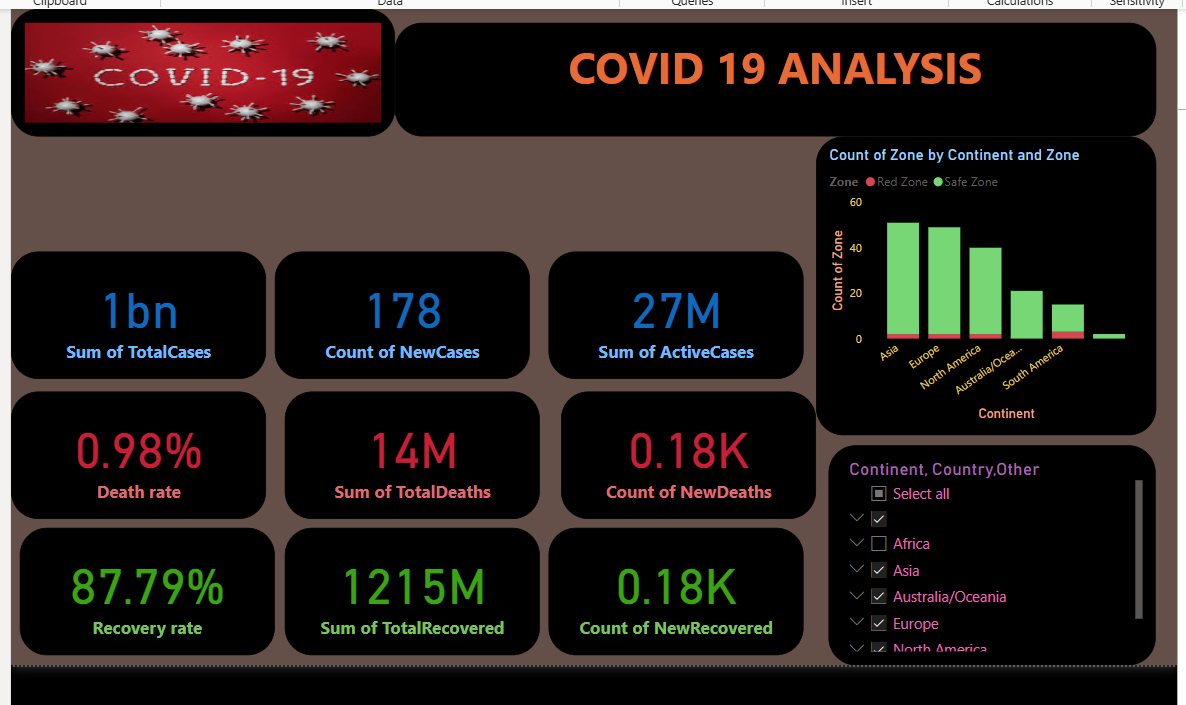

What the dashboard file says about the page in this screenshot:
{"tool":"powerbi","page":{"name":"Page 1","canvas":[1280,720],"ordinal":0},"visuals":[{"type":"card","fields":{"Values":["Table 1.Death rate"]},"box":[0,419.9,279.9,140],"z":0},{"type":"card","fields":{"Values":["Table 1.Recovery rate"]},"box":[9.6,569.5,279.9,140],"z":1000},{"type":"card","fields":{"Values":["Sum(Table 1.TotalDeaths)"]},"box":[300.5,419.9,279.9,140],"z":2000},{"type":"card","fields":{"Values":["CountNonNull(Table 1.NewDeaths)"]},"box":[603.8,419.9,279.9,140],"z":3000},{"type":"card","fields":{"Values":["Sum(Table 1.TotalRecovered)"]},"box":[300.5,569.5,279.9,140],"z":4000},{"type":"card","fields":{"Values":["CountNonNull(Table 1.NewRecovered)"]},"box":[590.1,569.5,279.9,140],"z":5000},{"type":"textbox","box":[421.3,15.1,835.7,124.9],"z":6000},{"type":"image","box":[0,0,421.3,140],"z":7000},{"type":"card","fields":{"Values":["Sum(Table 1.TotalCases)"]},"box":[0,266.2,279.9,140],"z":8000},{"type":"card","fields":{"Values":["CountNonNull(Table 1.NewCases)"]},"box":[289.5,266.2,279.9,140],"z":9000},{"type":"card","fields":{"Values":["Sum(Table 1.ActiveCases)"]},"box":[590.1,266.2,279.9,140],"z":10000},{"type":"slicer","fields":{"Values":["Table 1.Continent","Table 1.Country,Other"]},"box":[897.4,478.9,359.5,241.5],"z":11000},{"type":"columnChart","fields":{"Category":["Table 1.Continent"],"Y":["CountNonNull(Table 1.Zone)"],"Series":["Table 1.Zone"]},"box":[883.7,140,373.2,328],"z":11001}]}

Visuals, with their boxes on the page's 1280x720 design canvas (x1, y1, x2, y2). These are canvas units, not pixel positions in the 1186x705 screenshot, which may show the page scaled, cropped or inside an application window:
card - Table 1.Death rate: x1=0 y1=420 x2=280 y2=560
card - Table 1.Recovery rate: x1=10 y1=570 x2=290 y2=710
card - Sum(Table 1.TotalDeaths): x1=300 y1=420 x2=580 y2=560
card - CountNonNull(Table 1.NewDeaths): x1=604 y1=420 x2=884 y2=560
card - Sum(Table 1.TotalRecovered): x1=300 y1=570 x2=580 y2=710
card - CountNonNull(Table 1.NewRecovered): x1=590 y1=570 x2=870 y2=710
textbox: x1=421 y1=15 x2=1257 y2=140
image: x1=0 y1=0 x2=421 y2=140
card - Sum(Table 1.TotalCases): x1=0 y1=266 x2=280 y2=406
card - CountNonNull(Table 1.NewCases): x1=290 y1=266 x2=569 y2=406
card - Sum(Table 1.ActiveCases): x1=590 y1=266 x2=870 y2=406
slicer - Table 1.Continent x Table 1.Country,Other: x1=897 y1=479 x2=1257 y2=720
columnChart - Table 1.Continent x CountNonNull(Table 1.Zone): x1=884 y1=140 x2=1257 y2=468
